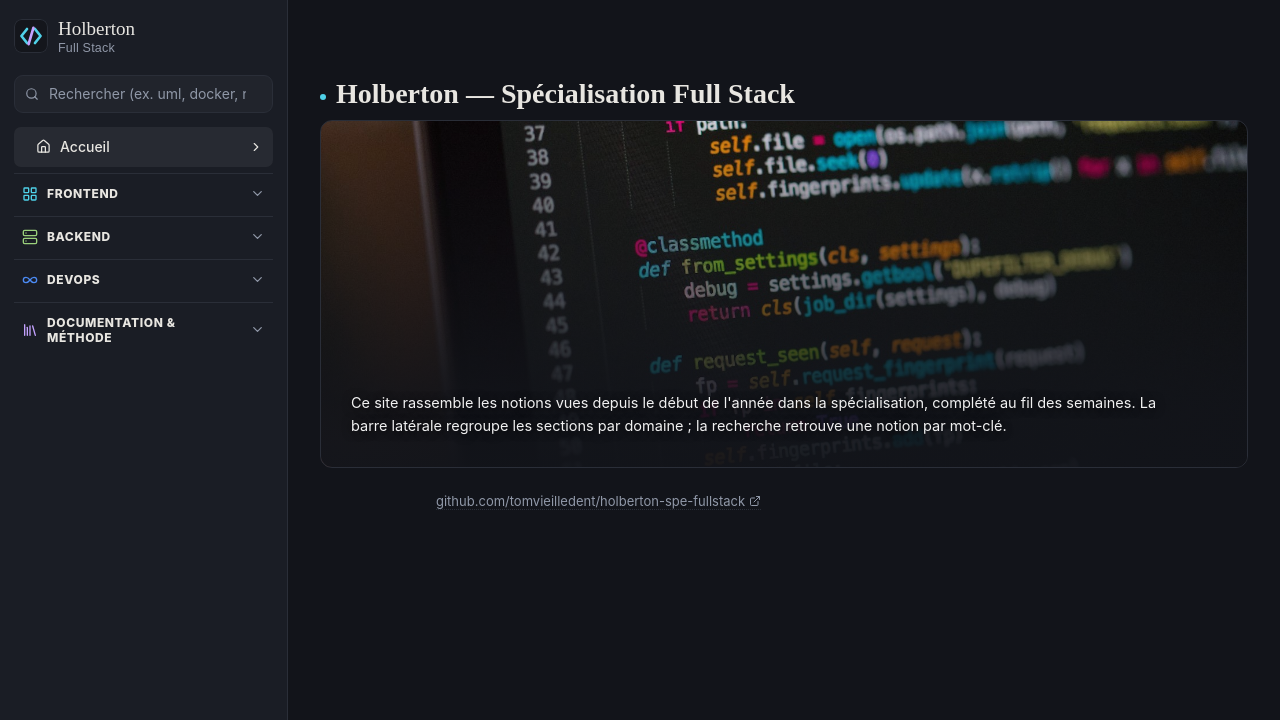
Test: App — recherche › « uml » propose les sections qui en parlent
Type "uml" into the search field labelled "Rechercher (ex. uml, docker, rest…)" at (154, 94), box x1=47 y1=84 x2=262 y2=103
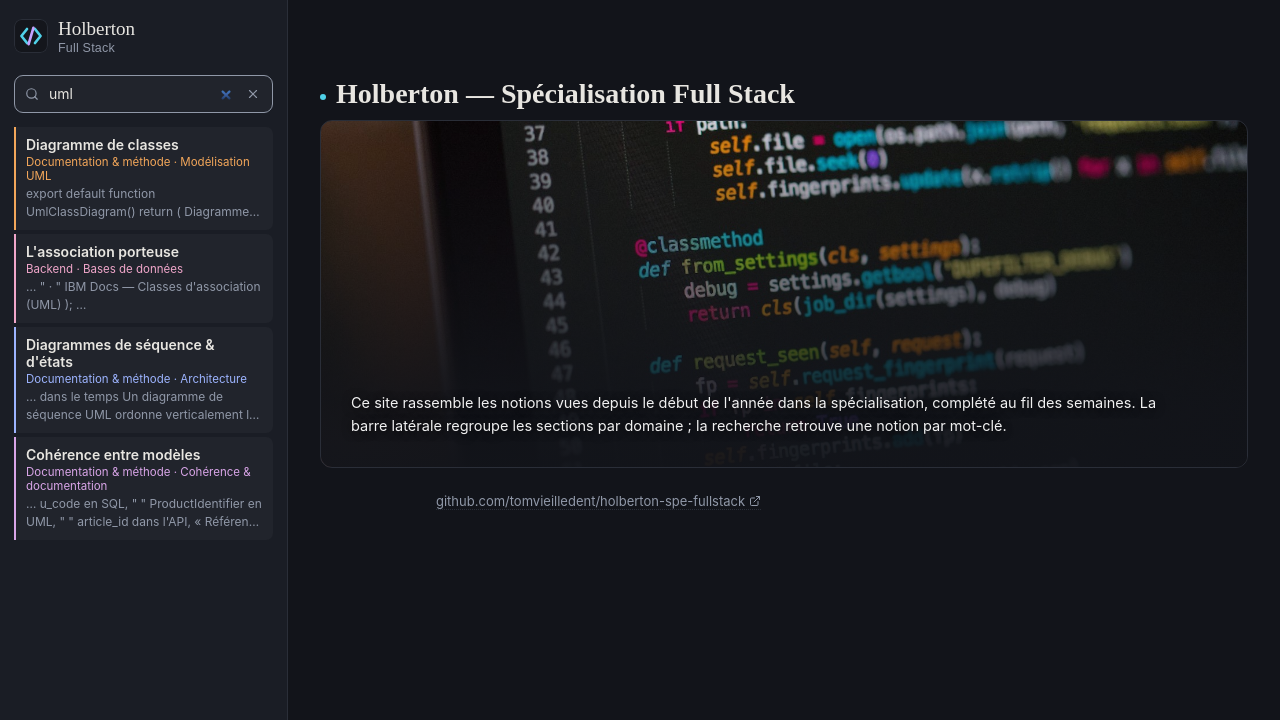
Now the text "Diagramme de classes" is shown, box x1=26 y1=136 x2=179 y2=153
